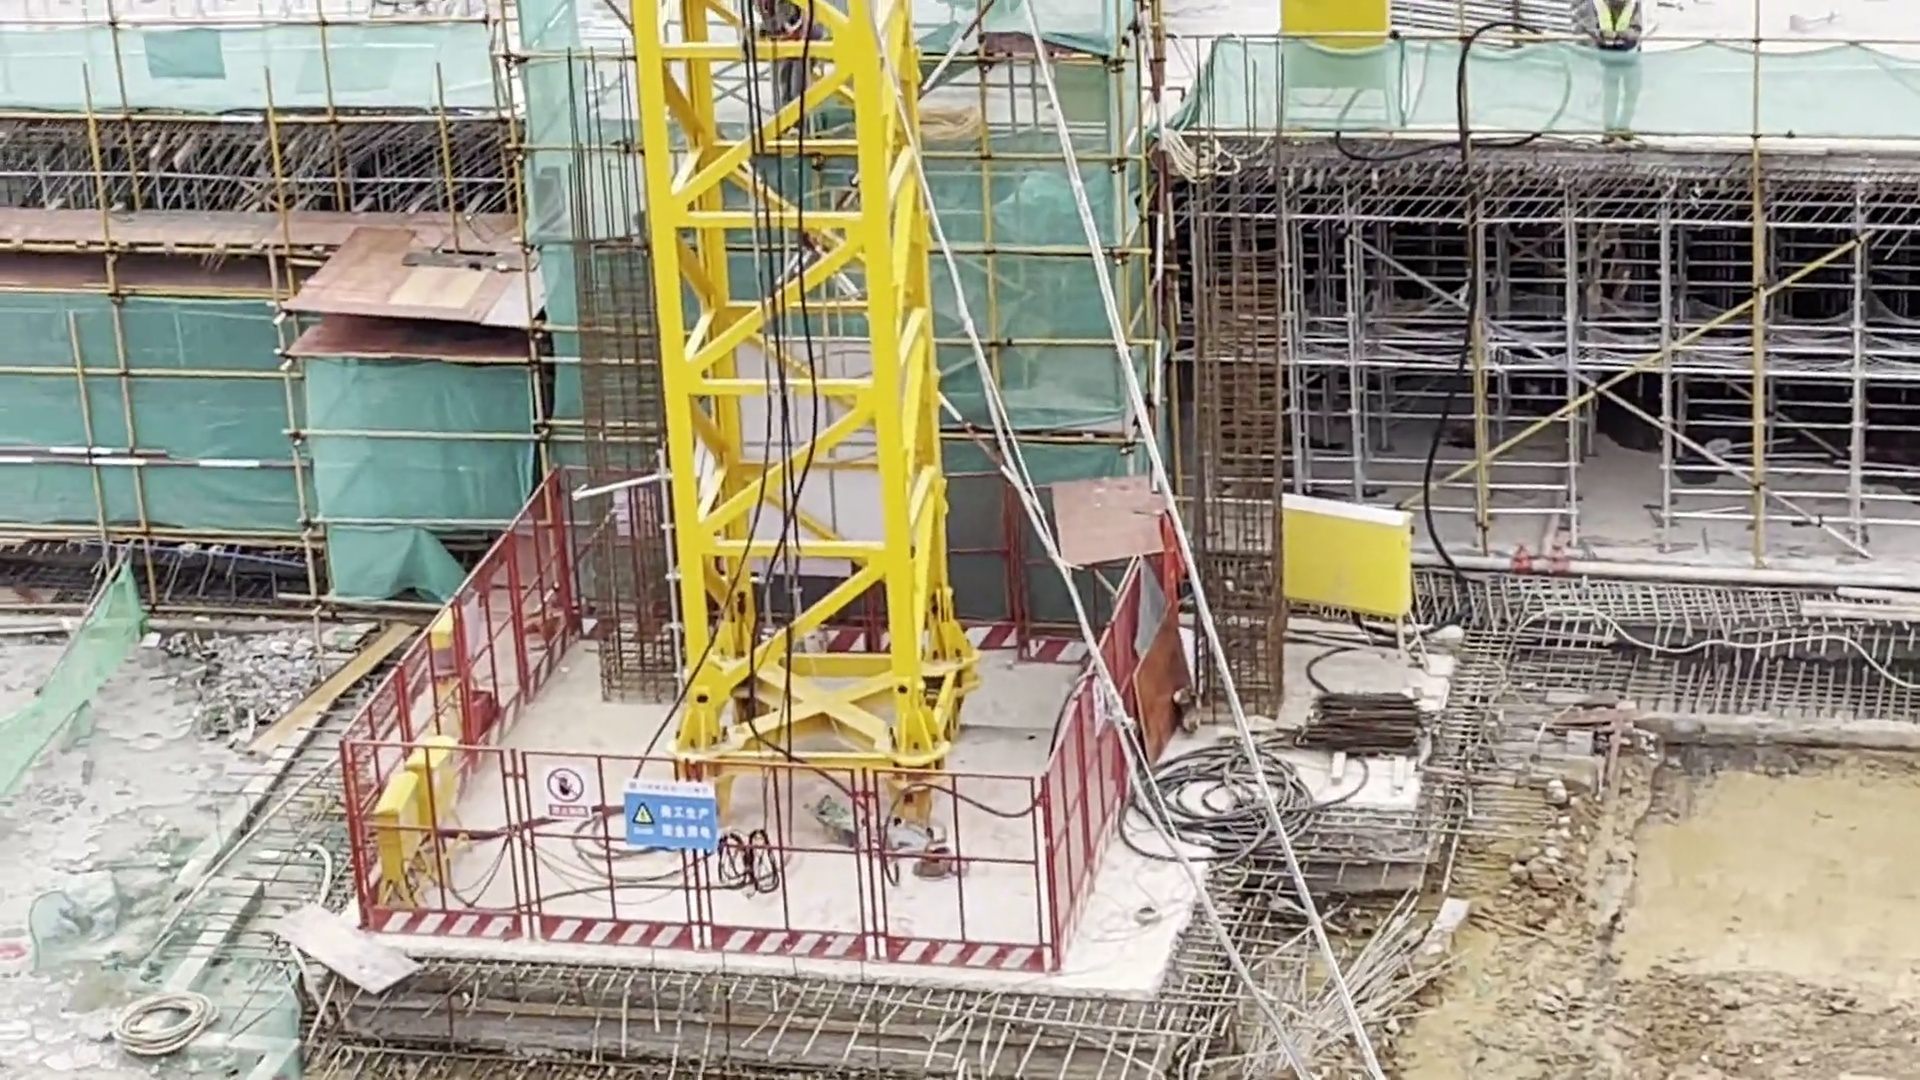person: (1587, 1, 1660, 159)
vest: (1596, 6, 1647, 62)
